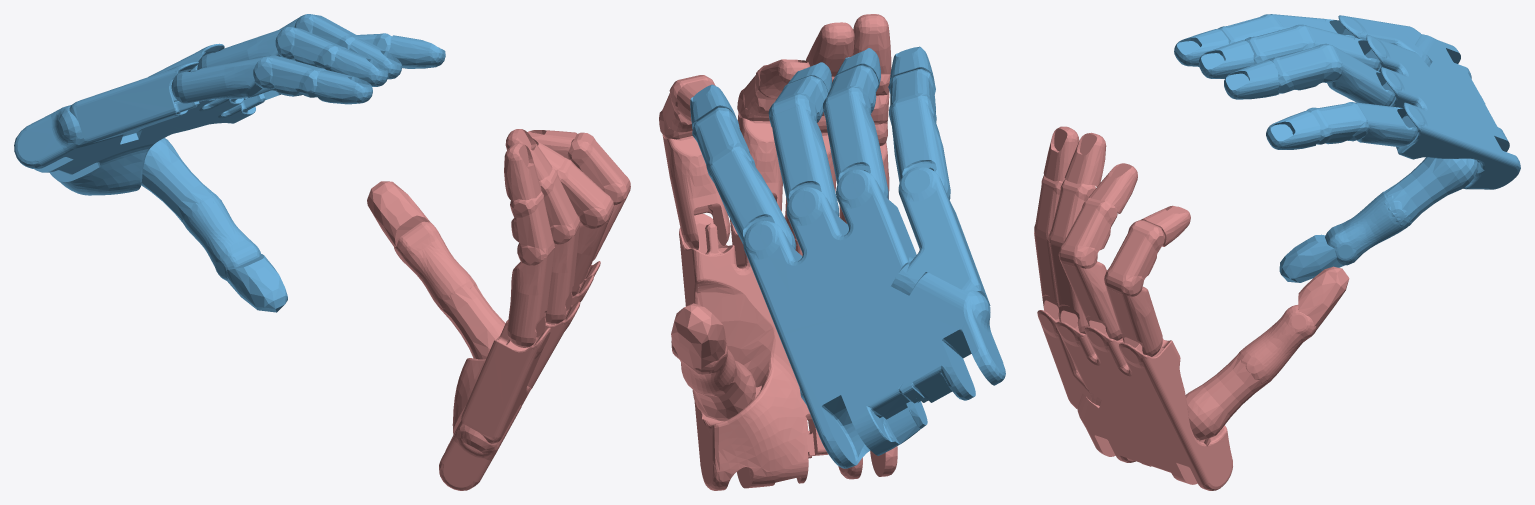
The model's file is DrinkingUtensil_pc.glb.
3 renders of one model, left to right at view 1: azimuth 30°, elevation 25°; view 2: azimuth 150°, elevation 25°; view 3: azimuth 270°, elevation 25°, orthographic. The views are drawn at different scales.
Visible parts, largest first — view 1: geom_1, geom_2; view 2: geom_1, geom_2; view 3: geom_2, geom_1.
Boxes of the visible parts, x1,y1,x2,y2 form: geom_1: [14, 14, 445, 312]; geom_2: [367, 129, 630, 490]; geom_1: [690, 46, 1005, 468]; geom_2: [659, 14, 897, 490]; geom_2: [1034, 126, 1349, 490]; geom_1: [1174, 14, 1520, 282].
Bounding box in the file's own units: 0.2536 × 0.2212 × 0.2473.
